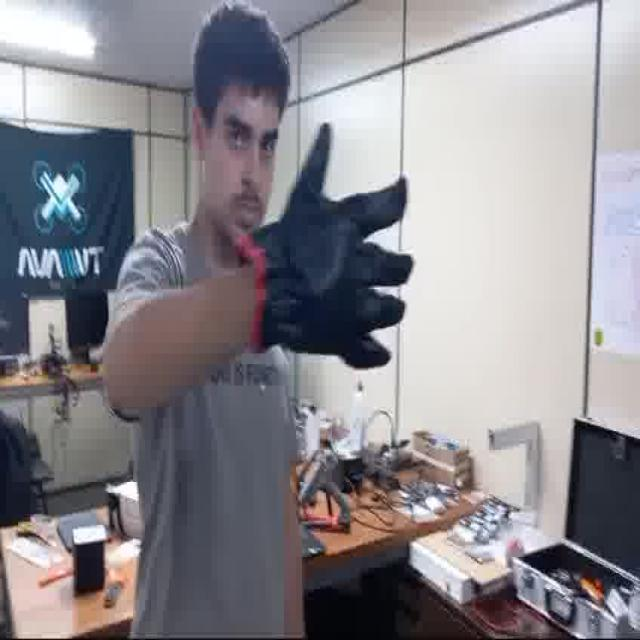Gloves: (245, 122, 414, 368)
